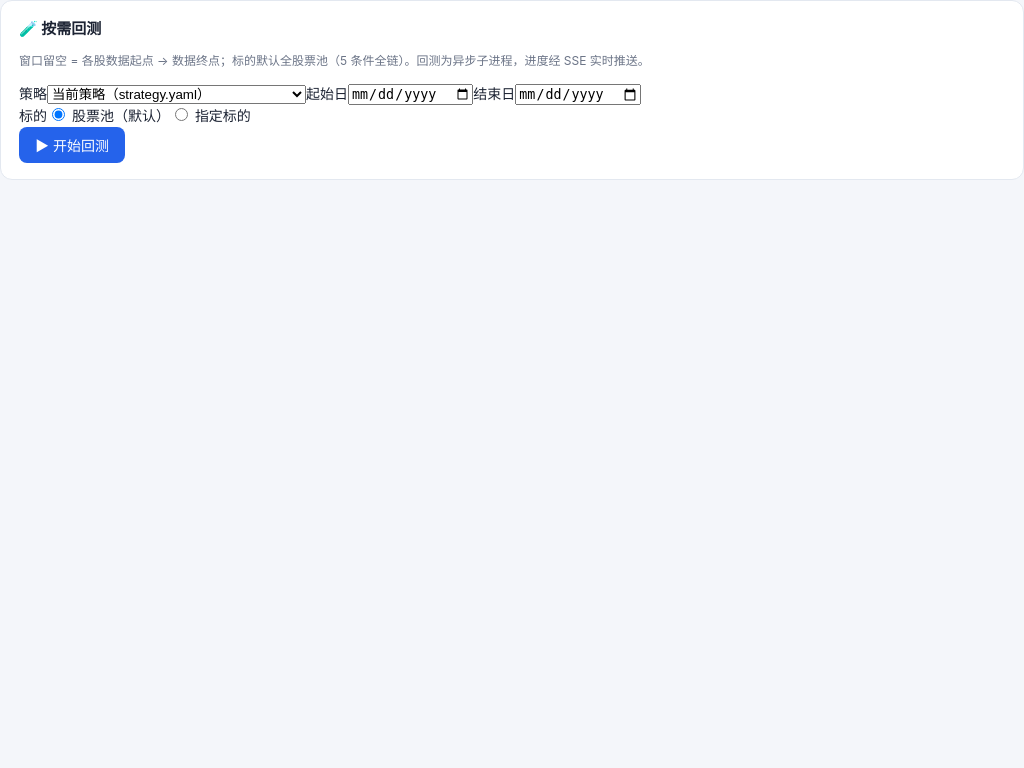
BacktestTab · 表单与触发 › 策略库条目跑完 → 结果 meta 行显示所选策略名
Select "aggressive_v2（2026-10-21 18:30:00）" in the dropdown labelled "策略" at point(176, 94), box [47, 85, 306, 104]
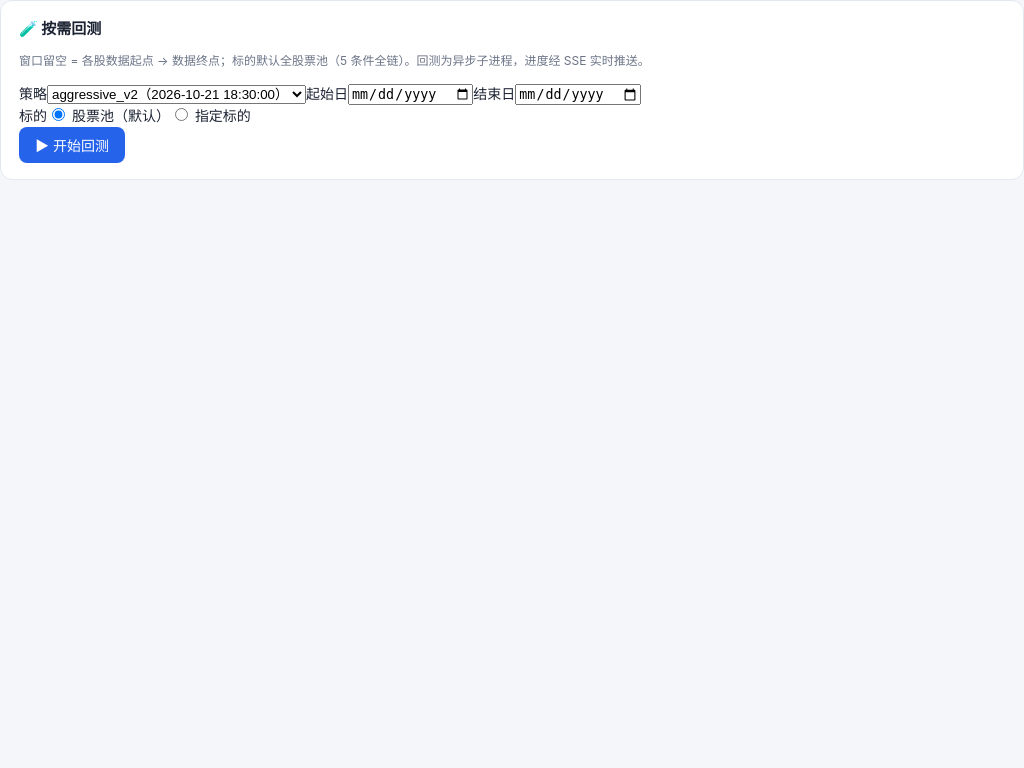
Click the button with id "btn-bt-run".
click(72, 145)  # box [19, 127, 125, 163]
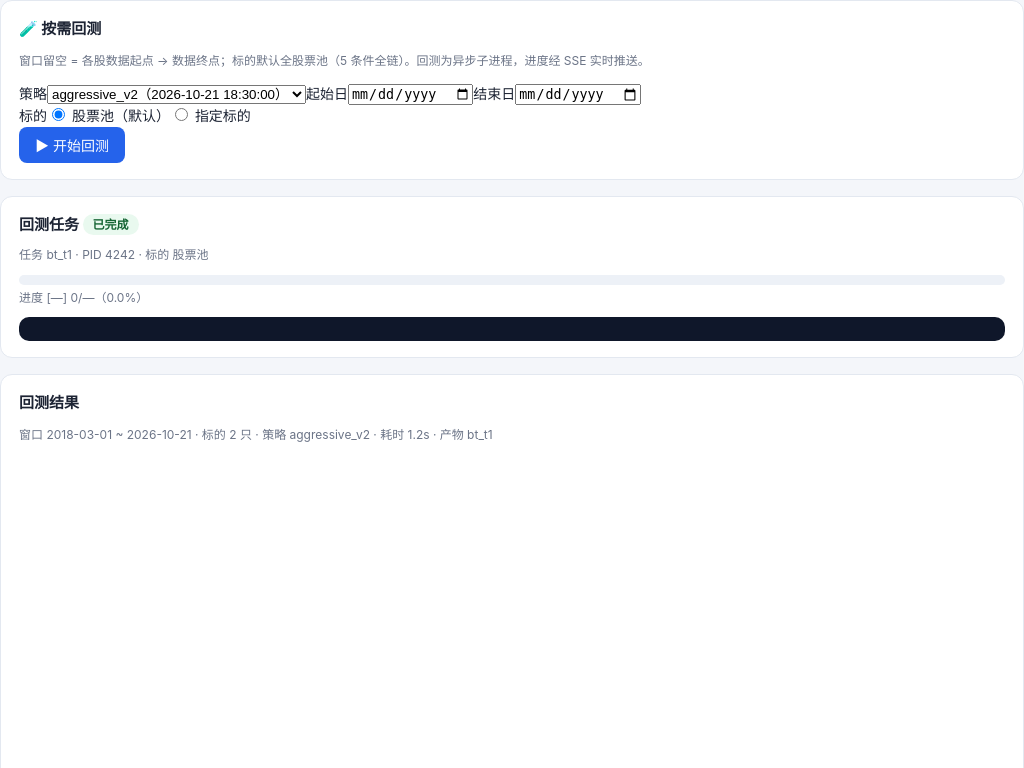
Expected: the text "策略 aggressive_v2" is shown, [19, 427, 493, 442]
